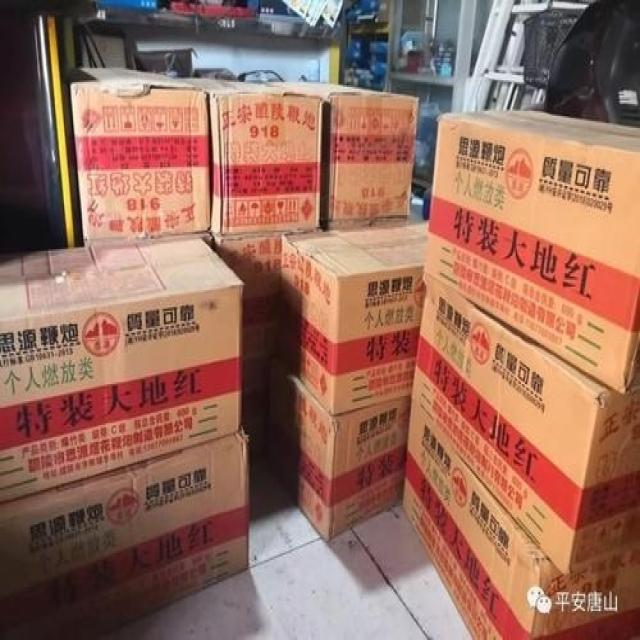box: (412, 278, 640, 580), (0, 234, 243, 505), (422, 109, 640, 394), (402, 399, 640, 640), (0, 430, 250, 614), (278, 222, 429, 416), (68, 67, 210, 241), (180, 79, 324, 236), (270, 80, 419, 229), (297, 381, 411, 543), (215, 234, 279, 364)
